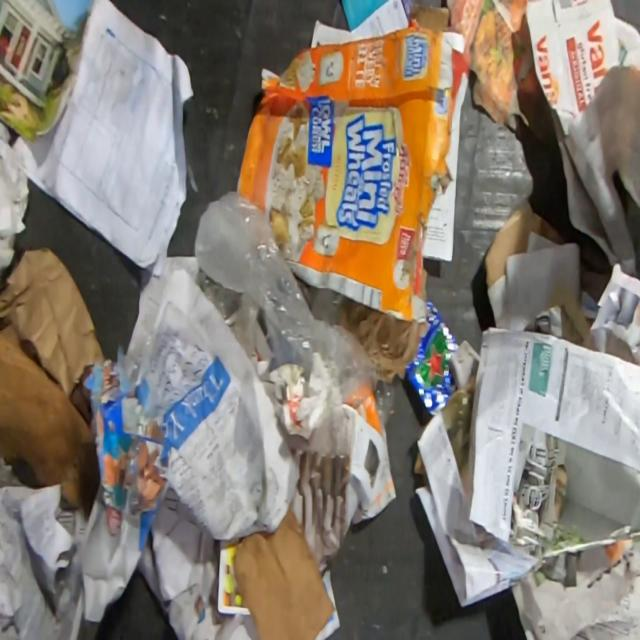cardboard: (236, 15, 473, 324), (0, 324, 97, 510), (82, 345, 168, 513), (234, 495, 332, 640), (484, 199, 569, 291)
metal: (406, 301, 459, 417)
rigid_plastic: (197, 267, 261, 356), (125, 322, 154, 388)
soft_plastic: (194, 191, 399, 435)
